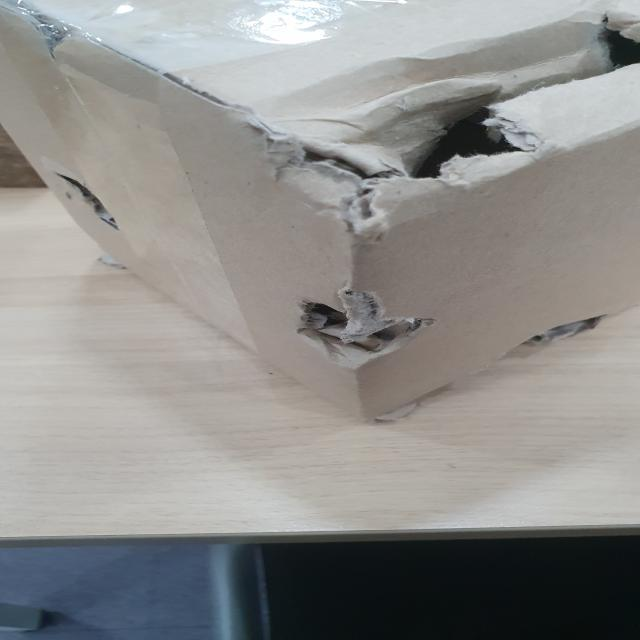hole: (259, 88, 535, 190), (285, 272, 439, 366), (53, 168, 137, 244), (503, 310, 605, 364), (583, 13, 640, 84)
